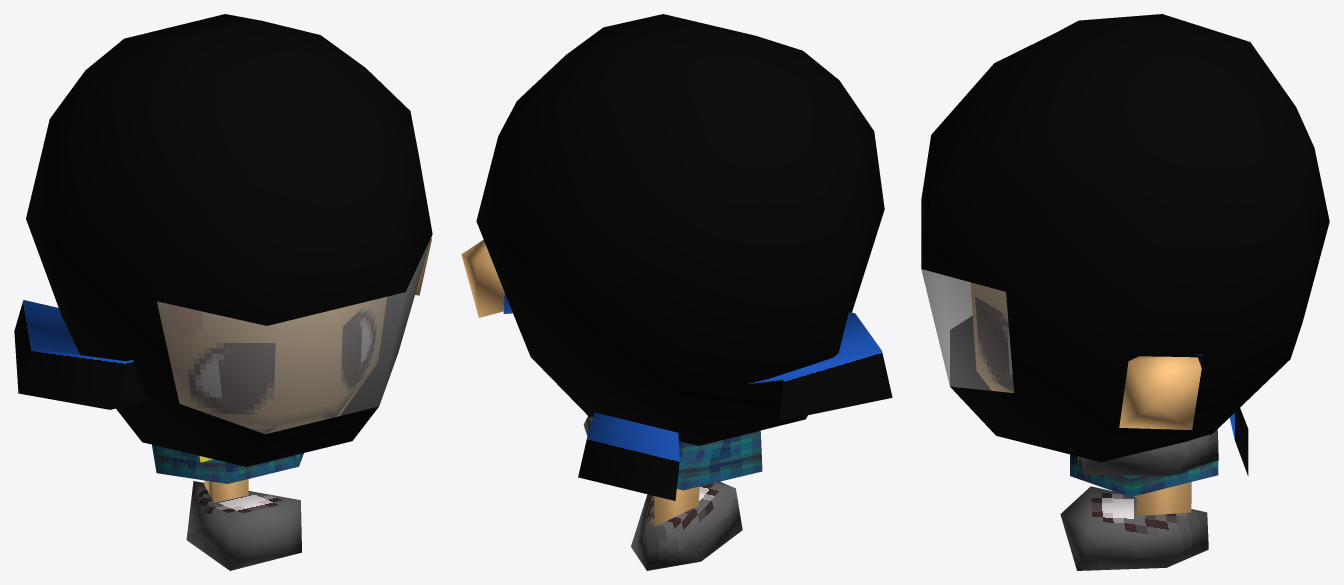
The picture shows the model from 3 angles, left to right: view 1: azimuth 30°, elevation 25°; view 2: azimuth 150°, elevation 25°; view 3: azimuth 270°, elevation 25°; orthographic projection.
Visible parts, largest first — view 1: pmd52_00_04; view 2: pmd52_00_04; view 3: pmd52_00_04.
Boxes of the visible parts, x1,y1,x2,y2 form: pmd52_00_04: [14, 14, 432, 570]; pmd52_00_04: [461, 14, 892, 570]; pmd52_00_04: [921, 14, 1329, 570].
Size of the model in its own units: 1.18 by 1.35 by 0.9741.
Materials: 8 (7 with a texture image).
